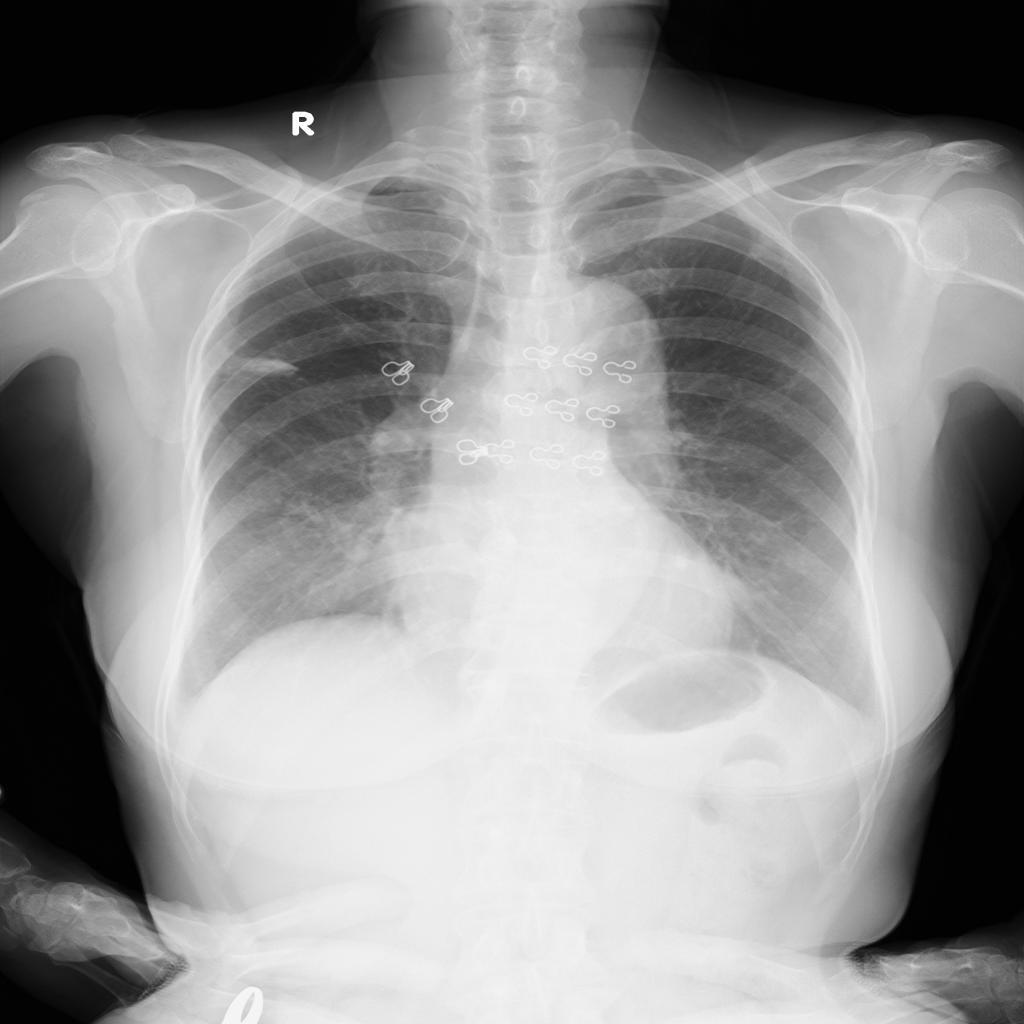Nodule: (373, 431, 395, 447)
